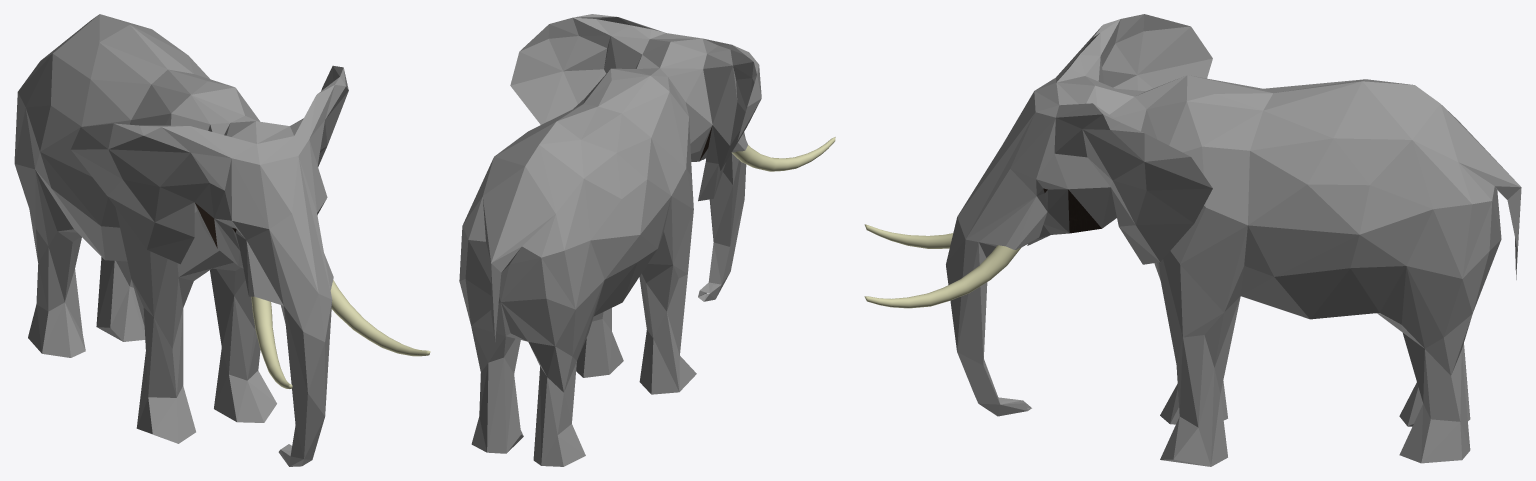
Rendered from elephant.gltf.
3 renders of one model, left to right at view 1: azimuth 30°, elevation 25°; view 2: azimuth 150°, elevation 25°; view 3: azimuth 270°, elevation 25°, orthographic. The views are drawn at different scales.
Visible parts, largest first — view 1: Elephant; view 2: Elephant; view 3: Elephant.
Part boxes in pixels (x1,y1,x2,y2): Elephant: (14, 14, 430, 466); Elephant: (459, 14, 835, 466); Elephant: (864, 14, 1521, 466).
Size of the model in its own units: 5.33 by 7.02 by 11.35.
3 materials, 1 textured.
